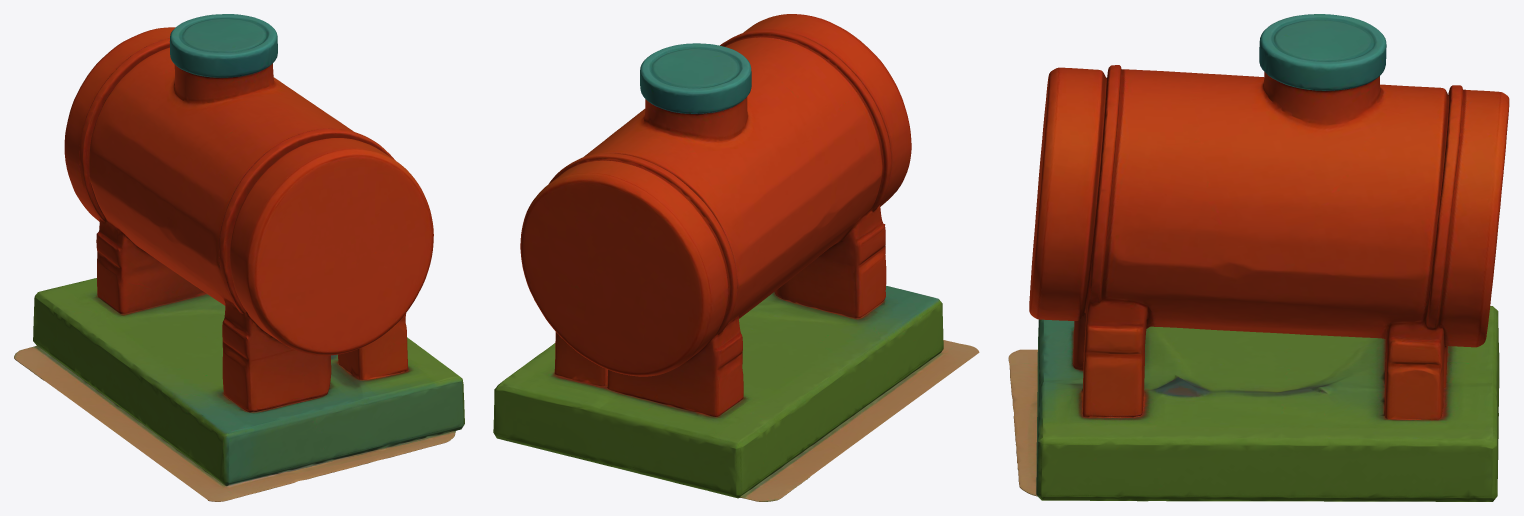
The model's file is Utility3d1.glb.
3 views of the same model, side by side, from view 1: azimuth 30°, elevation 25°; view 2: azimuth 150°, elevation 25°; view 3: azimuth 270°, elevation 25° (orthographic). The views are drawn at different scales.
Visible parts, largest first — view 1: tripo_node_594c450e-b387-4eb8-8774-d9632ed84dc2; view 2: tripo_node_594c450e-b387-4eb8-8774-d9632ed84dc2; view 3: tripo_node_594c450e-b387-4eb8-8774-d9632ed84dc2.
Boxes of the visible parts, <box> form: tripo_node_594c450e-b387-4eb8-8774-d9632ed84dc2: <box>14,14,464,501</box>; tripo_node_594c450e-b387-4eb8-8774-d9632ed84dc2: <box>493,14,979,501</box>; tripo_node_594c450e-b387-4eb8-8774-d9632ed84dc2: <box>1008,14,1509,501</box>.
Bounding box in the file's own units: 0.7273 × 0.8734 × 1.
Materials: 1 (1 with a texture image).
